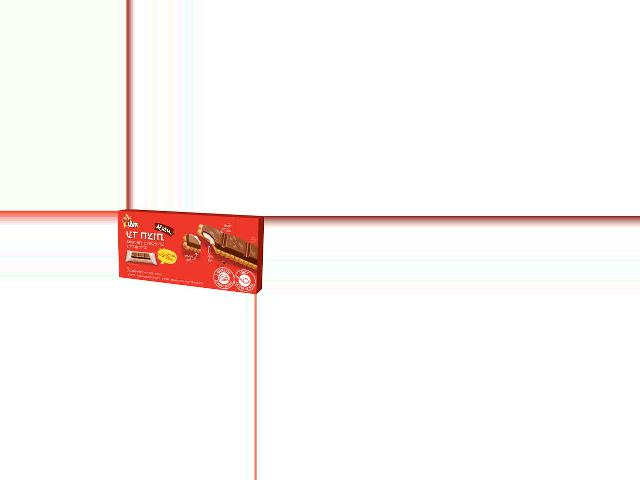chocolate: (116, 215, 262, 285)
